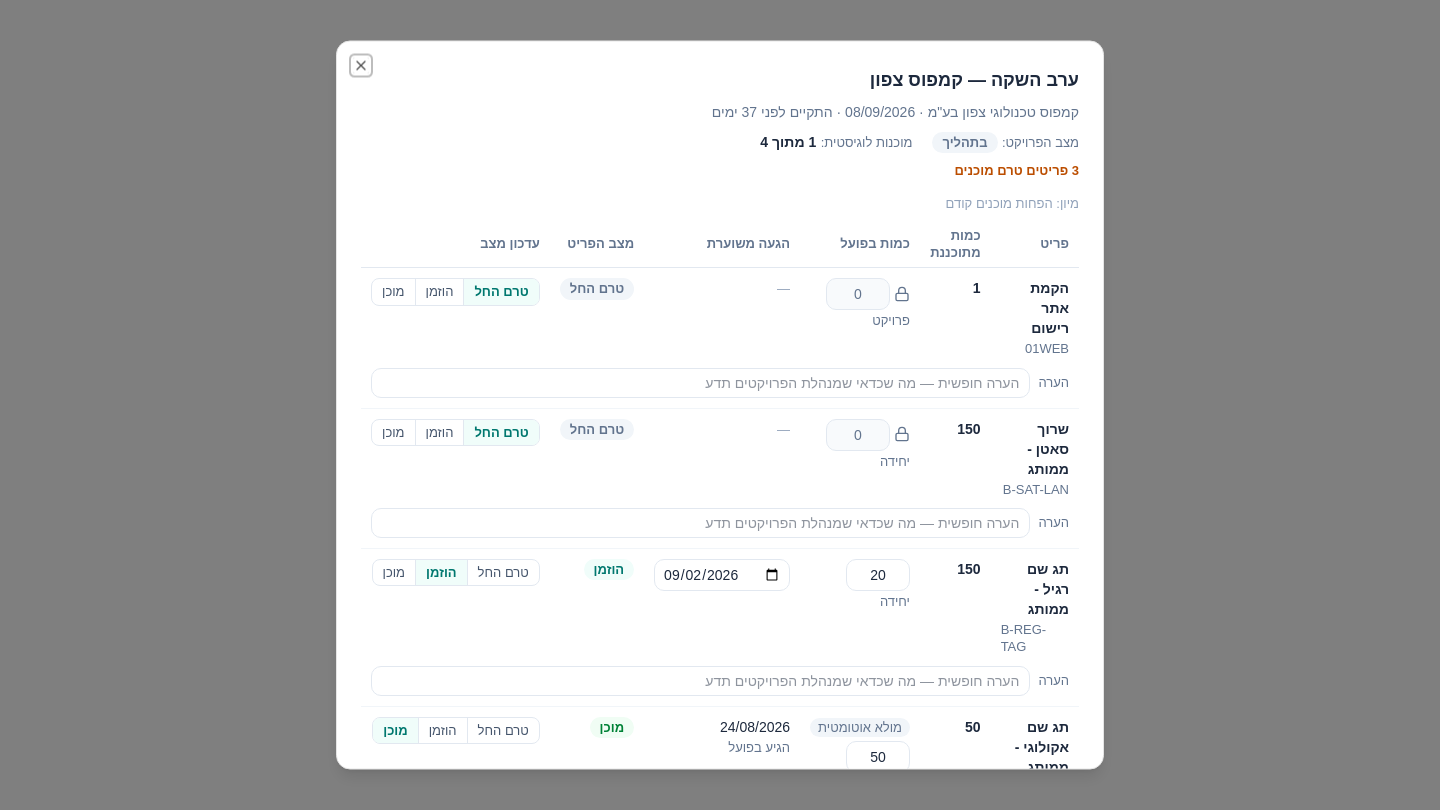
Test case: ChecklistDialog — ㊵ תג המילוי האוטומטי › מופיע על ערך שהמערכת מילאה, ונעלם ברגע שהיא מקלידה
Check: the text with test id "checklist-autofill-B-ECO-TAG-1" reads "מולא אוטומטית", box x1=818 y1=719 x2=902 y2=734
Replace the text in the field with test id "checklist-qty-B-ECO-TAG-1" with "48" at x=878, y=756, box x1=846 y1=740 x2=910 y2=772
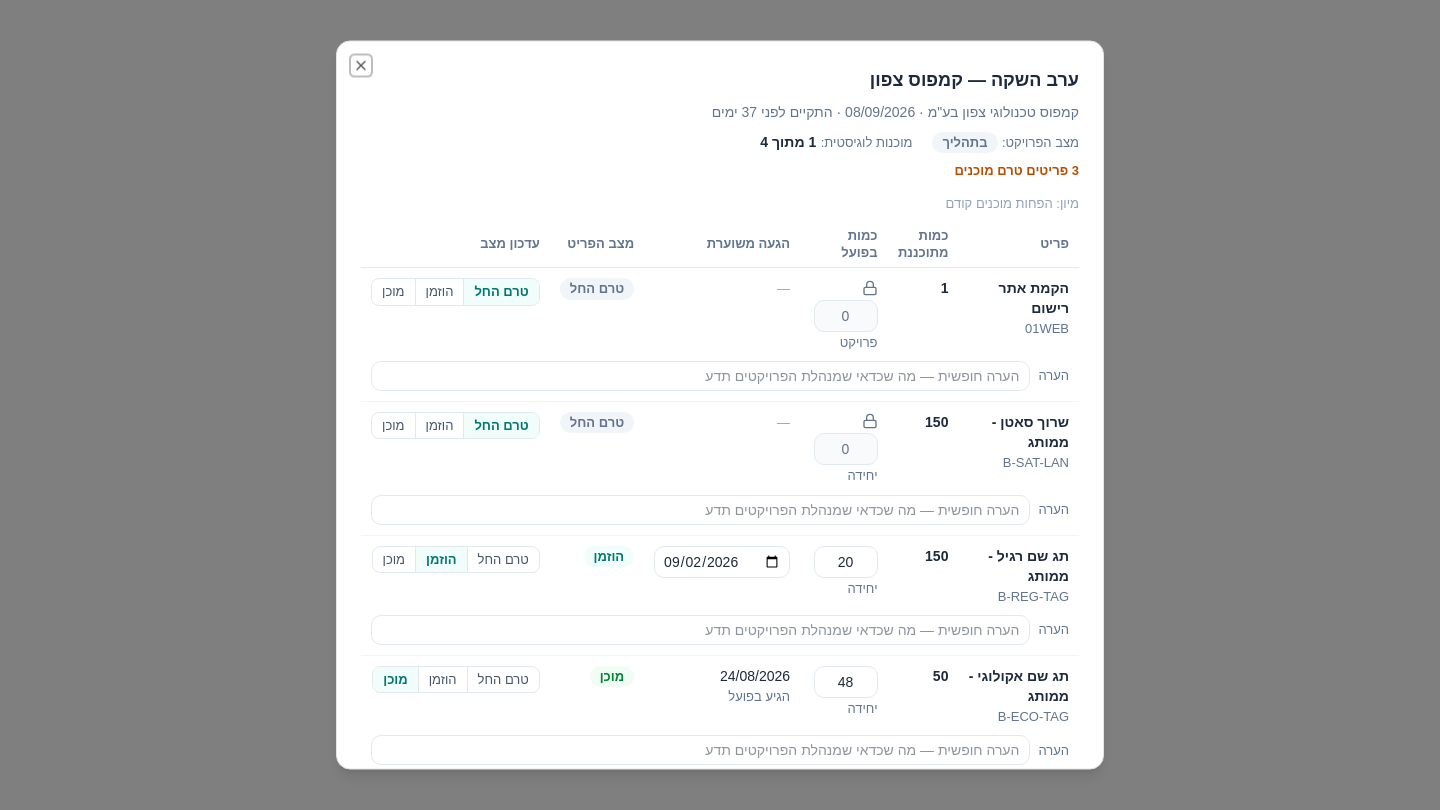
Check: the text with test id "checklist-autofill-B-ECO-TAG-1" is gone
